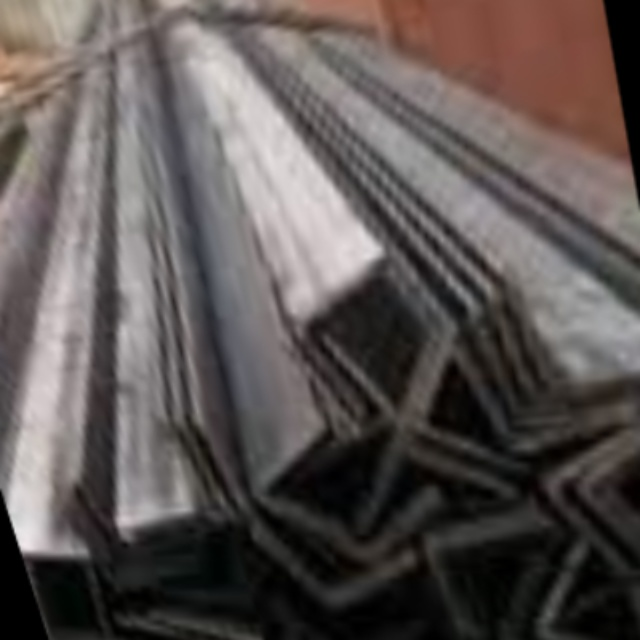Angle: (288, 262, 412, 414), (391, 345, 509, 497), (408, 332, 524, 473), (513, 262, 640, 385), (423, 522, 565, 630), (546, 429, 640, 572), (260, 525, 422, 601), (269, 494, 446, 561), (528, 550, 640, 640), (574, 424, 640, 564), (27, 567, 131, 640), (22, 551, 109, 633), (603, 423, 640, 555)
